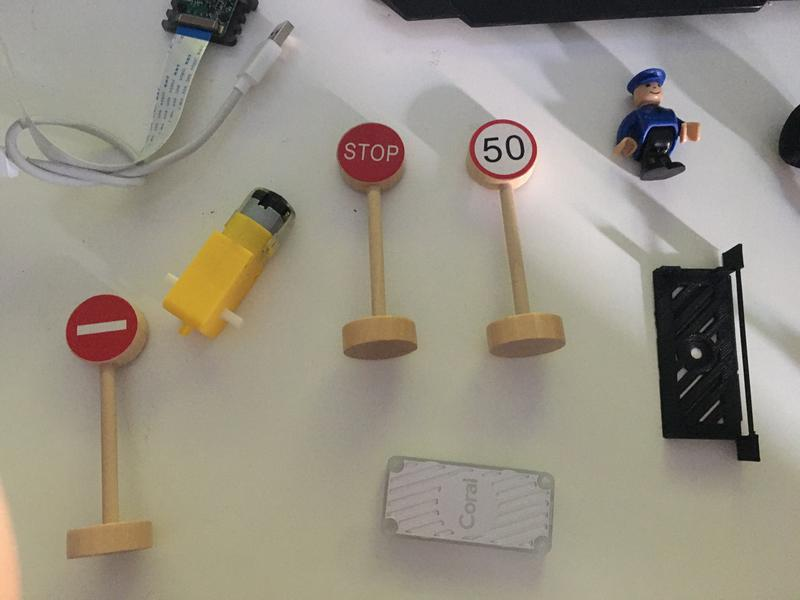Traffic_Sign_50: (470, 120, 537, 178)
Traffic_Sign_No_Entry: (67, 294, 138, 361)
Traffic_Sign_Stop: (337, 123, 405, 182)
person: (612, 68, 704, 184)
